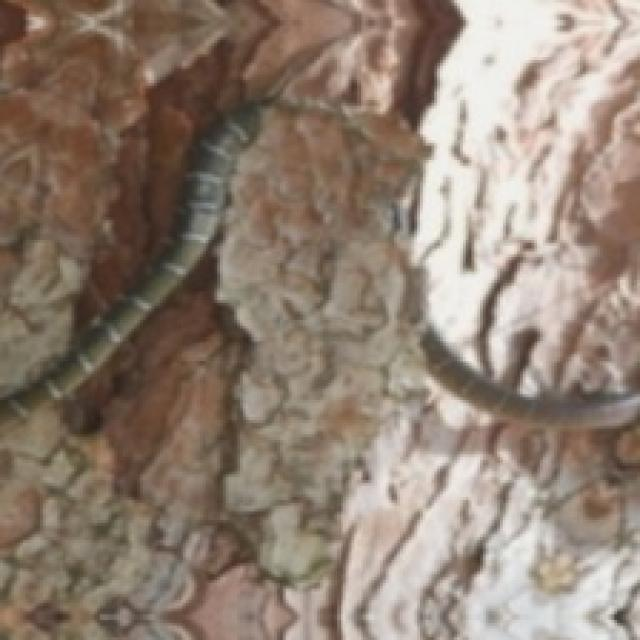reddish rat snake: (0, 104, 263, 417), (421, 321, 640, 429)
